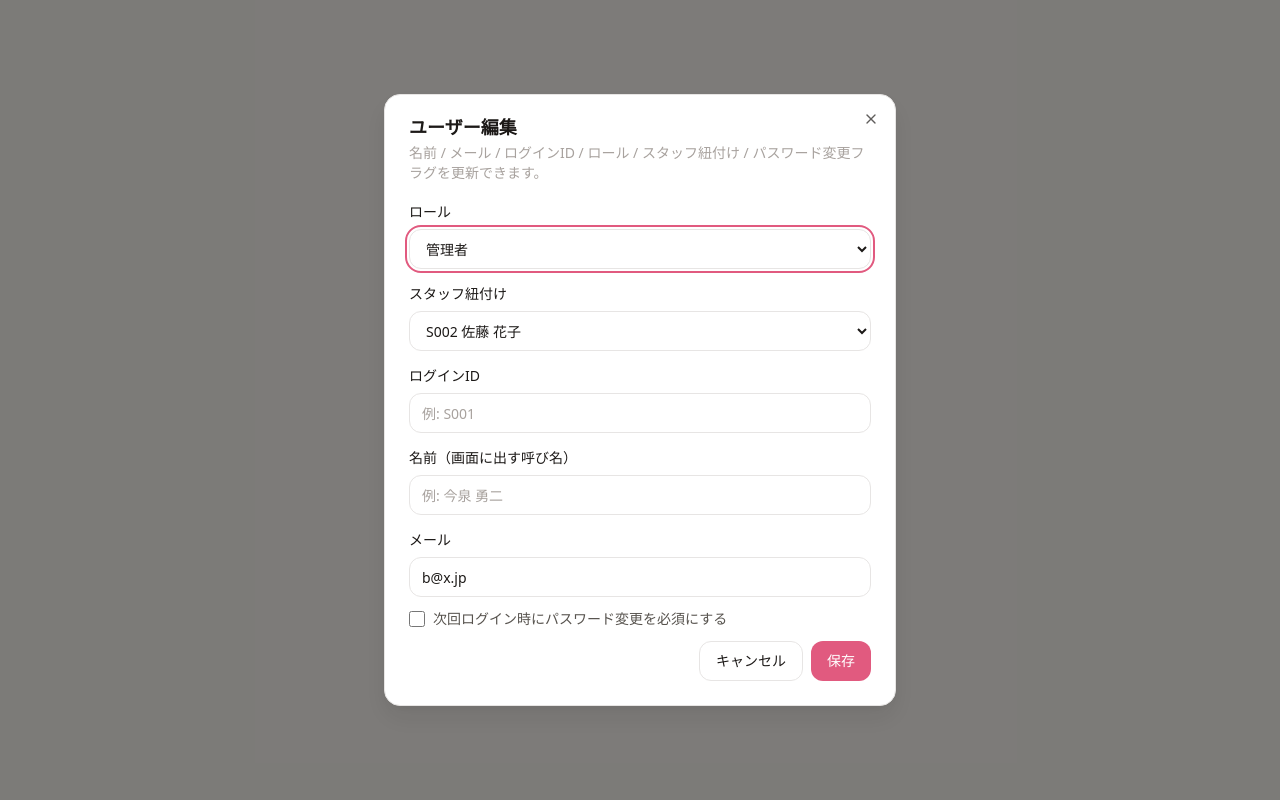
Scenario: UserEditDialog — P2 staff linkage › warns and blocks submit when email and username are both empty
Clear the field labelled "メール" at x=640, y=577, box [409,557,871,597]
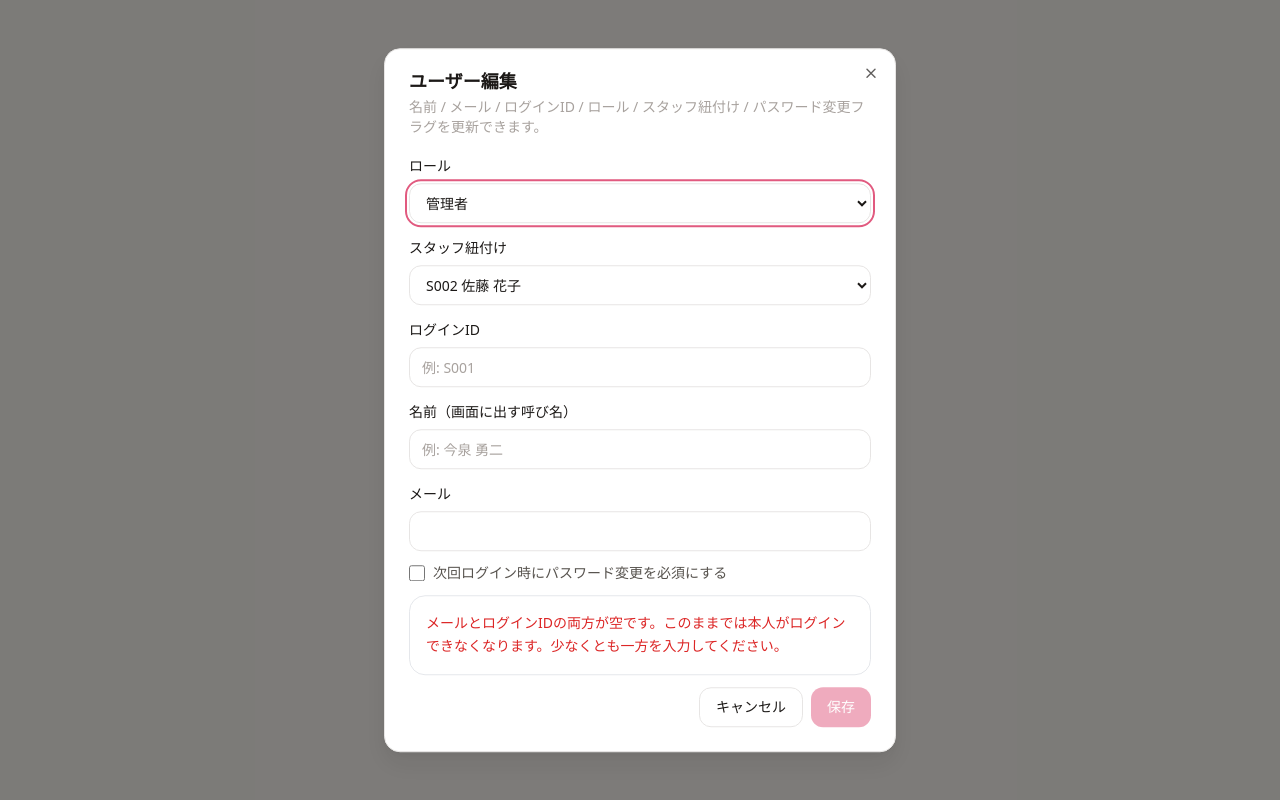
Now the text "メールとログインIDの両方が空です。このままでは本人がログインできなくなります。少なくとも一方を入力してください。" is shown, box [426,612,854,658]
Now the button "保存" is disabled, box [811,687,871,727]
